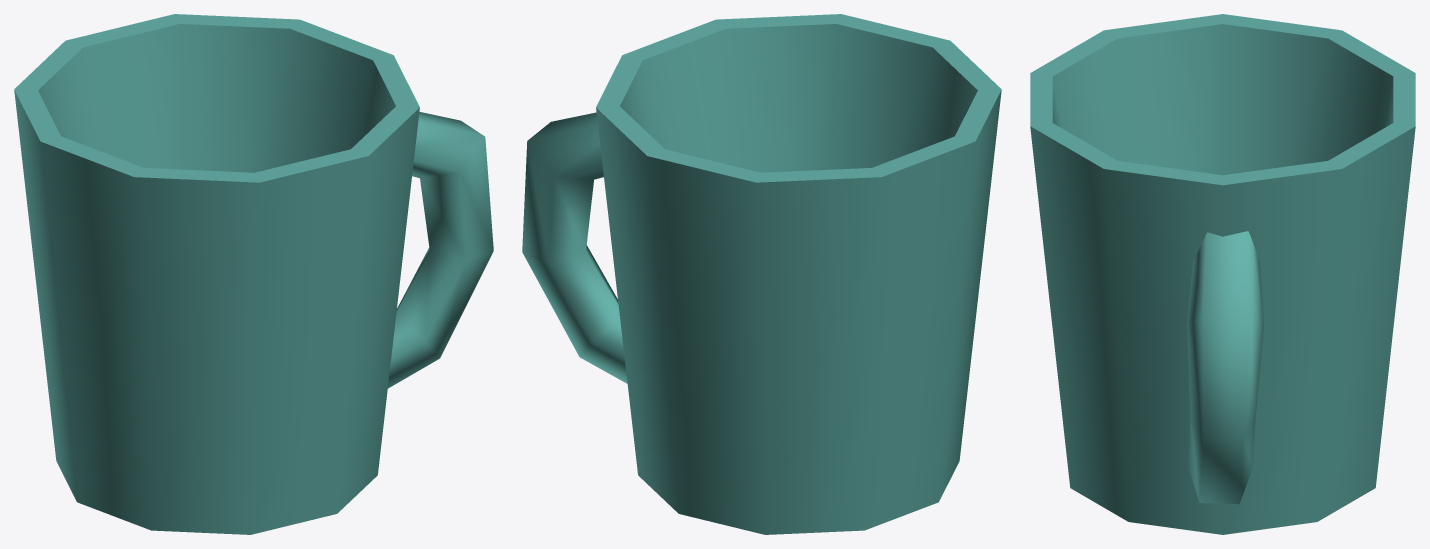
The model's file is Tazza_Manico_1.fbx.
3 renders of one model, left to right at view 1: azimuth 30°, elevation 25°; view 2: azimuth 150°, elevation 25°; view 3: azimuth 270°, elevation 25°, orthographic.
Visible parts, largest first — view 1: Tazza_Manico_1; view 2: Tazza_Manico_1; view 3: Tazza_Manico_1.
Part boxes in pixels (<box>): Tazza_Manico_1: <box>14,14,493,534</box>; Tazza_Manico_1: <box>522,14,1001,534</box>; Tazza_Manico_1: <box>1030,14,1415,534</box>.
Bounding box in the file's own units: 0.1023 × 0.0815 × 0.0775.
